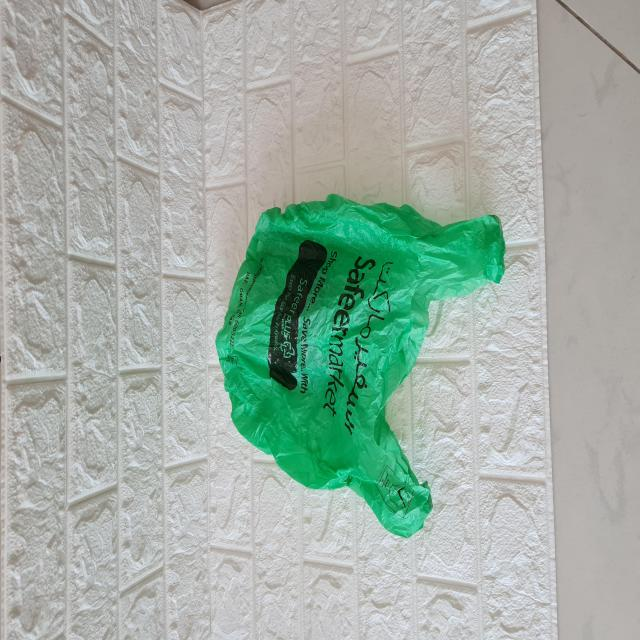plastic bag: (218, 192, 506, 538)
